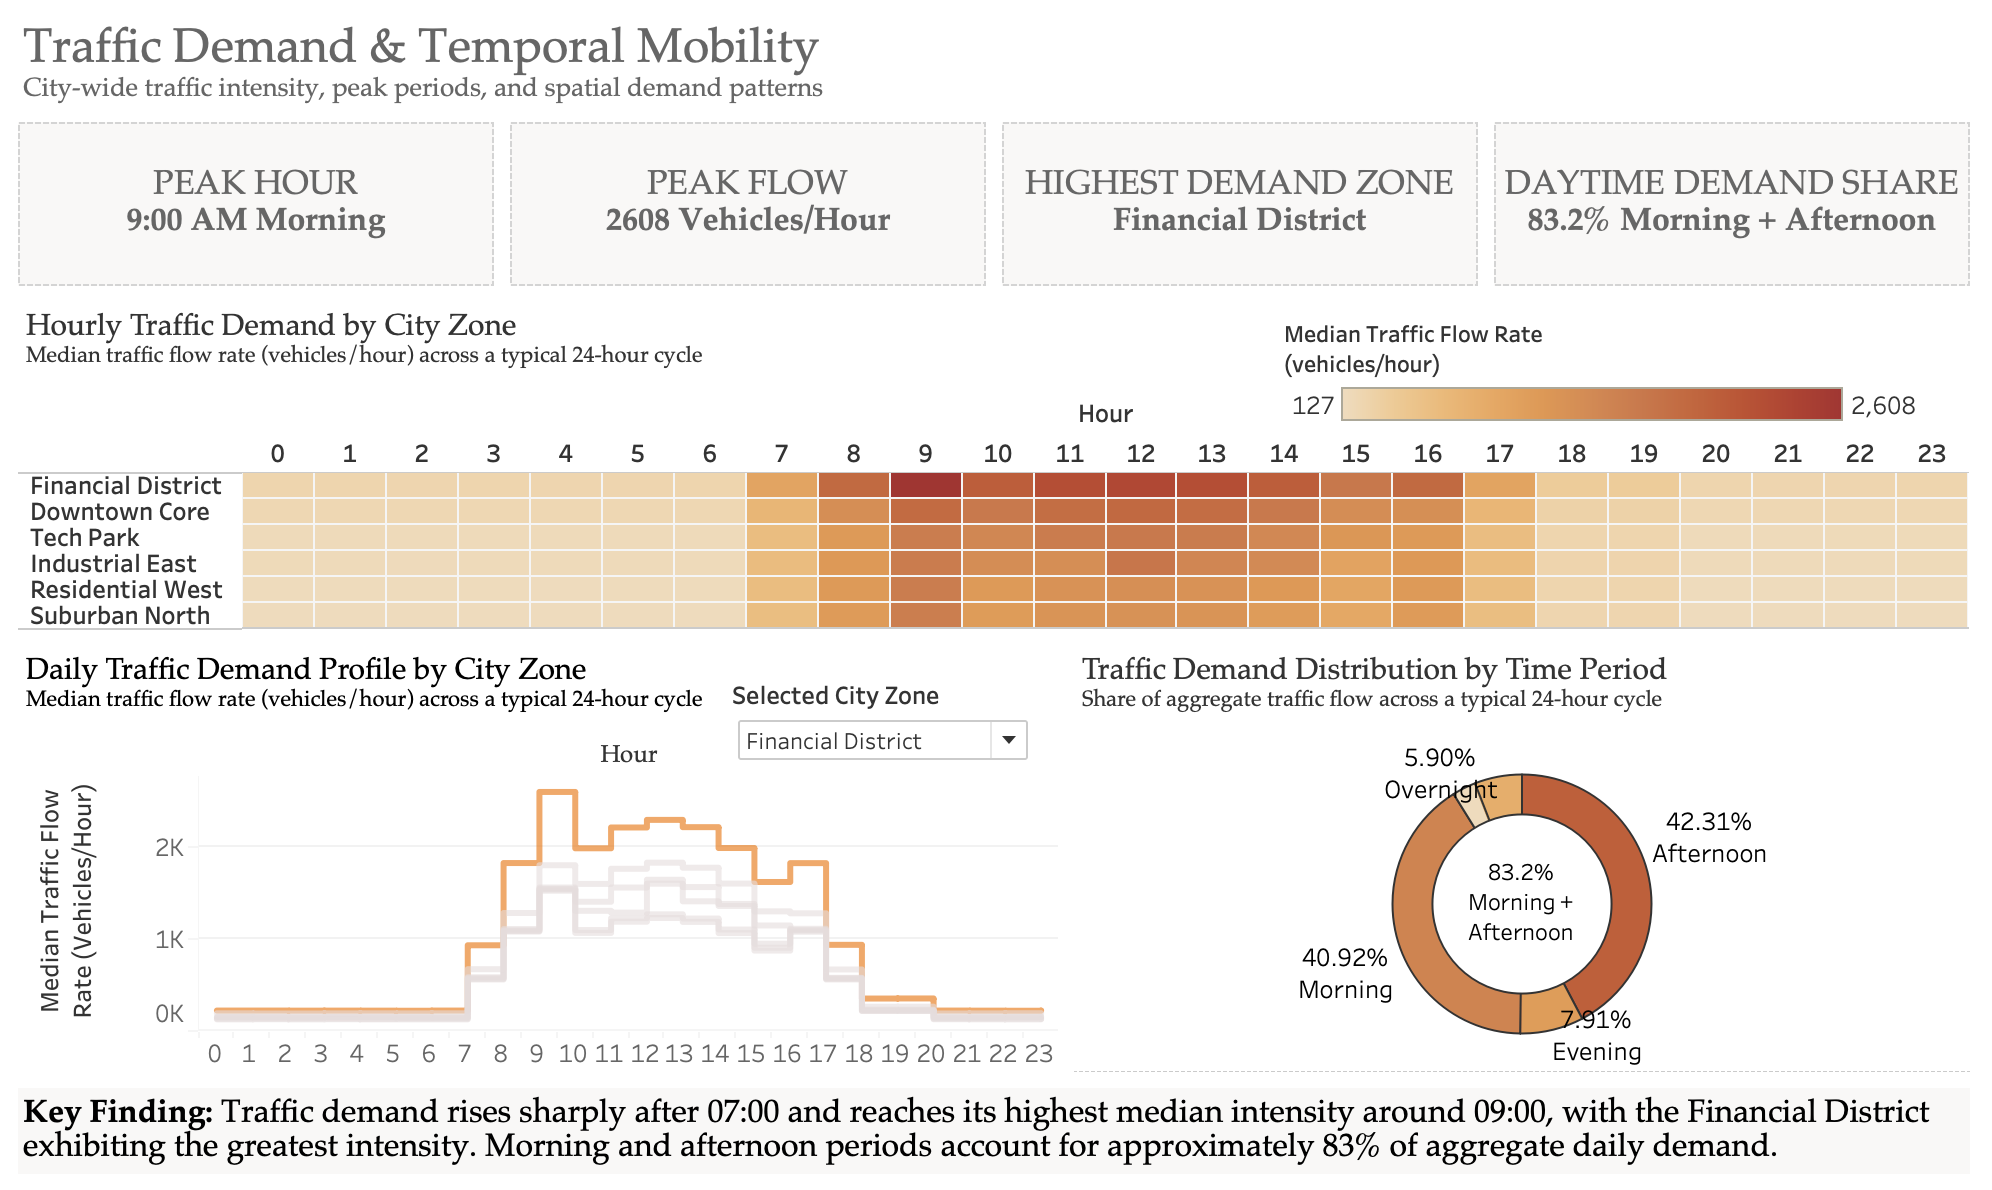

The page's visual inventory and layout, read from the dashboard file:
{"tool":"tableau","page":{"name":"Dashboard 1","canvas":[1000,600],"ordinal":0},"visuals":[{"type":"text","box":[8,8,984,50]},{"type":"text","box":[8,58,246,90]},{"type":"text","box":[254,58,246,90]},{"type":"text","box":[500,58,246,90]},{"type":"text","box":[746,58,246,90]},{"type":"worksheet","title":"city zone hourly traffic","mark":"Automatic","rows":["city_zone"],"cols":["hour"],"box":[8,148,984,172]},{"type":"legend","title":"city zone hourly traffic","param":"[federated.0unkg1z1oyn5v41486te50x2kuda].[med:traffic_flow_rate:qk]","box":[645,160,321,56]},{"type":"worksheet","title":"daily demands","mark":"Line","rows":["traffic_flow_rate"],"cols":["hour"],"box":[8,320,528,221]},{"type":"worksheet","title":"time period donut","mark":"Pie","rows":["Calculation_0090408866295826","Calculation_0090408866295826"],"cols":["Calculation_0090408959184915"],"box":[536,320,456,221]},{"type":"parameter","param":"[Parameters].[Parameter 0090408856797190]","box":[369,340,151,47]},{"type":"text","box":[8,541,984,51]}]}

Visuals, with their boxes in screenshot pixels (x1, y1, x2, y2), scaled from the page's 1000x600 canvas onto the 1992x1190 screenshot:
text: [16,16,1976,115]
text: [16,115,506,294]
text: [506,115,996,294]
text: [996,115,1486,294]
text: [1486,115,1976,294]
"city zone hourly traffic" worksheet: [16,294,1976,635]
"city zone hourly traffic" legend: [1285,317,1924,428]
"daily demands" worksheet (Line marks): [16,635,1068,1073]
"time period donut" worksheet (Pie marks): [1068,635,1976,1073]
parameter: [735,674,1036,768]
text: [16,1073,1976,1174]
